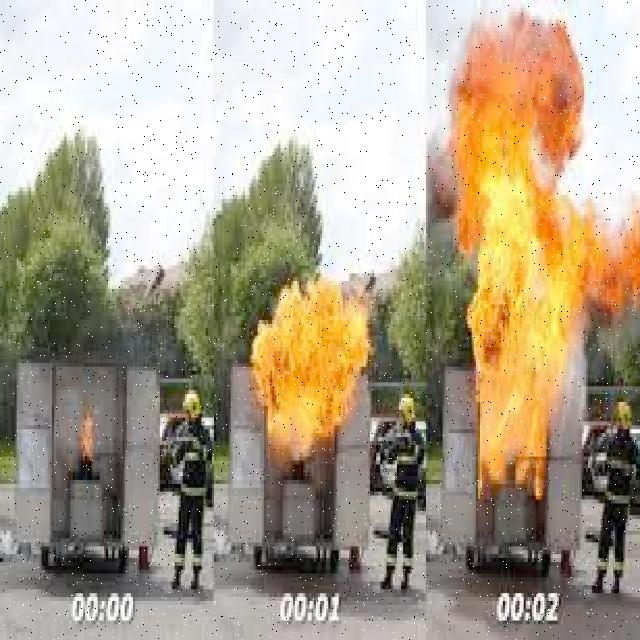fire: (438, 27, 584, 482), (248, 265, 376, 464), (70, 418, 103, 467)
